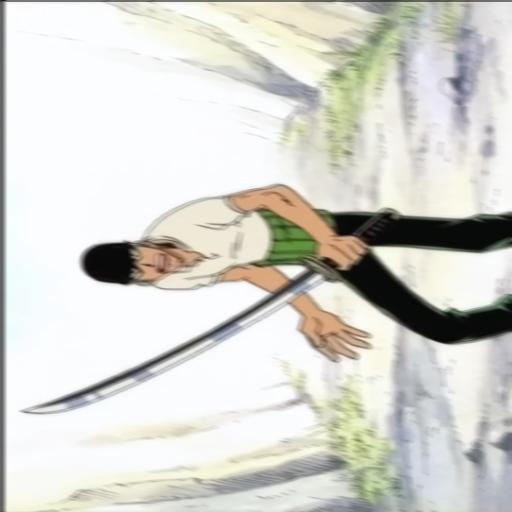Zoro: (0, 165, 512, 428)
